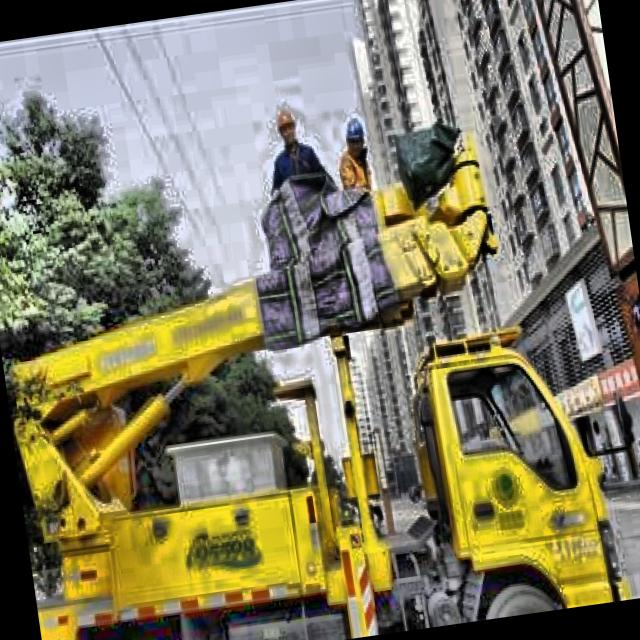helmet: (338, 115, 372, 162), (273, 104, 302, 148)
